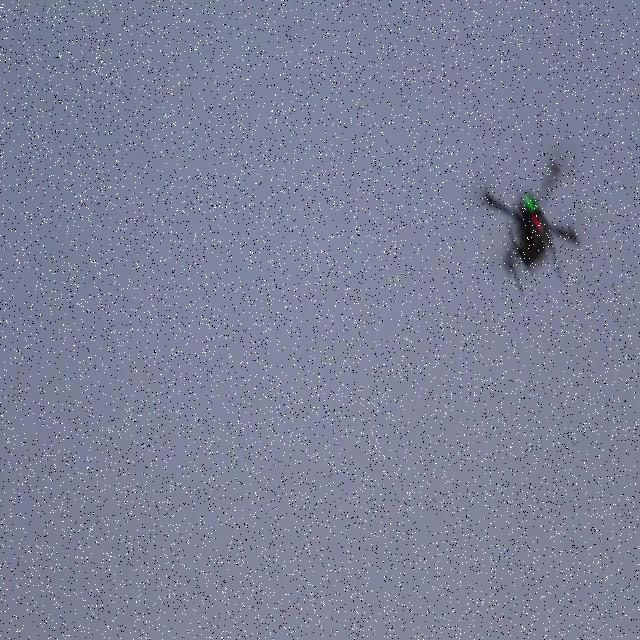UAV: (483, 158, 581, 300)
